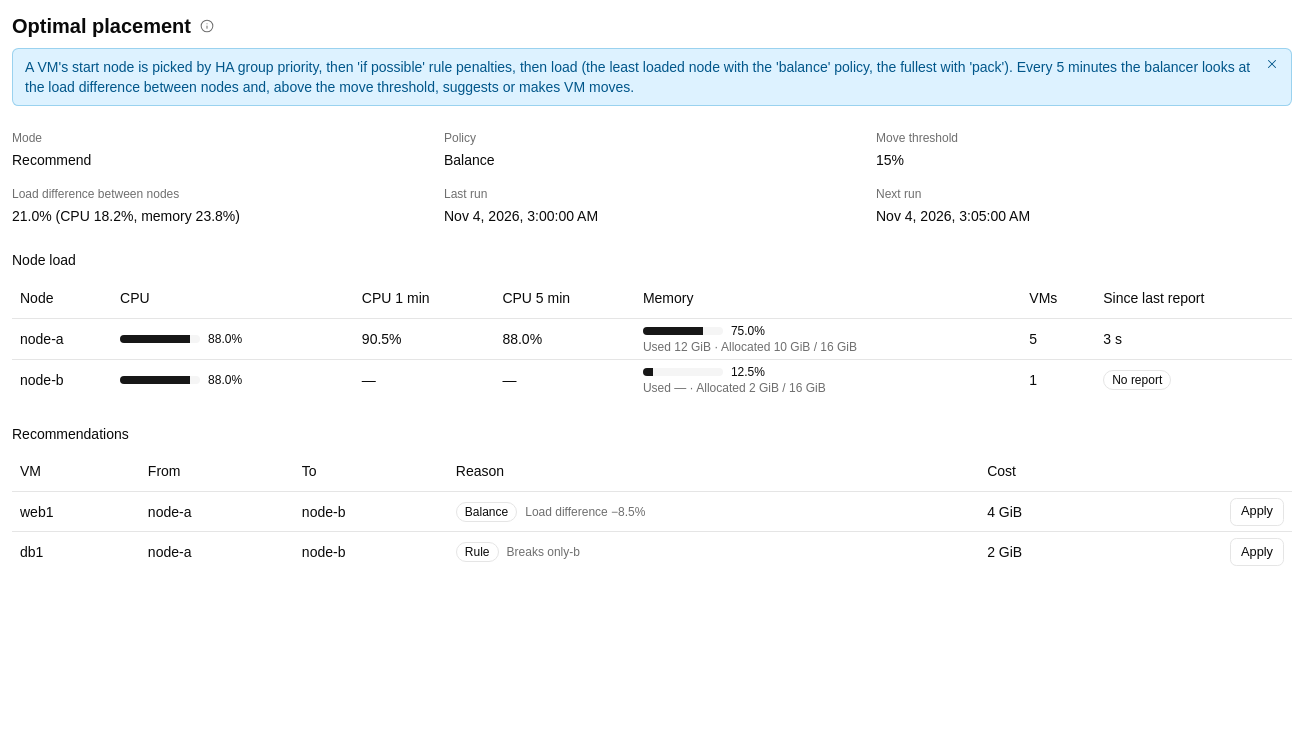
Test: says when the recommendation is gone
Step 1. Click the button with aria-label "Apply: move db1 to node-b" → (1257,552), box [1230, 538, 1284, 566]
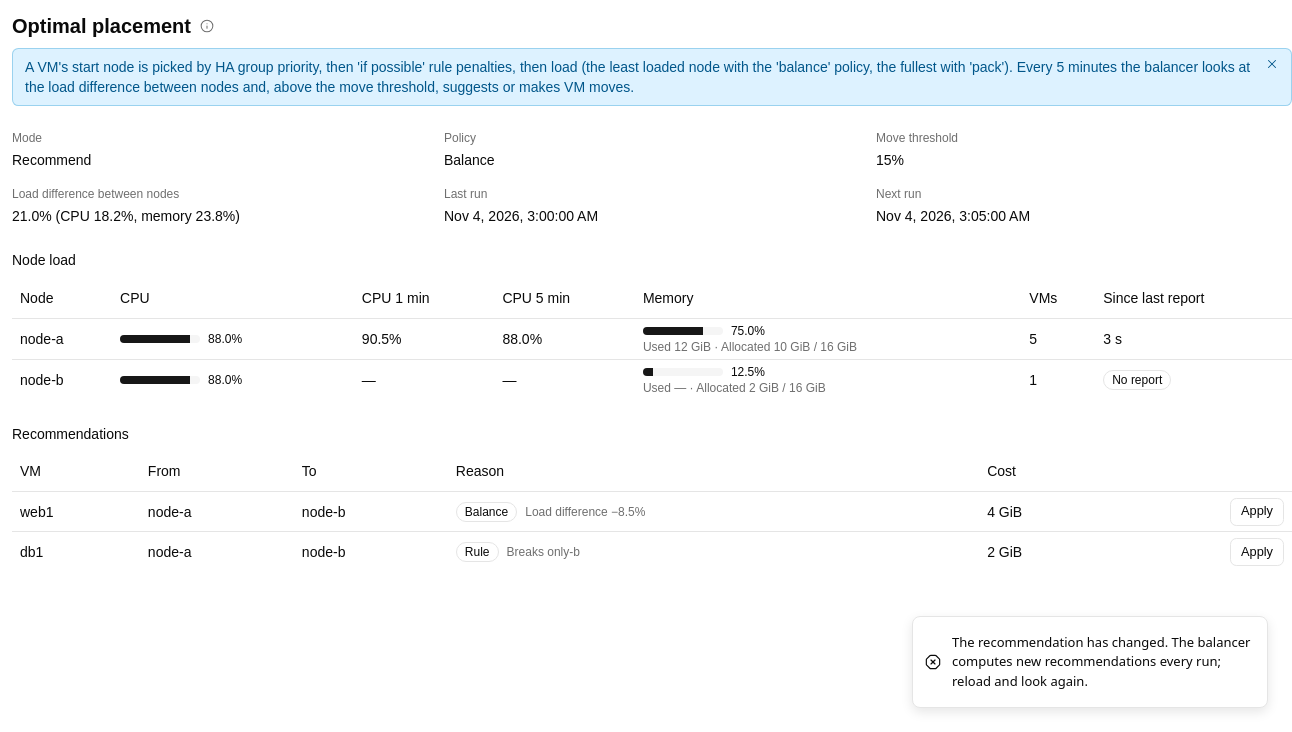
Expected: the text "The recommendation has changed" is shown, [952, 632, 1250, 690]
